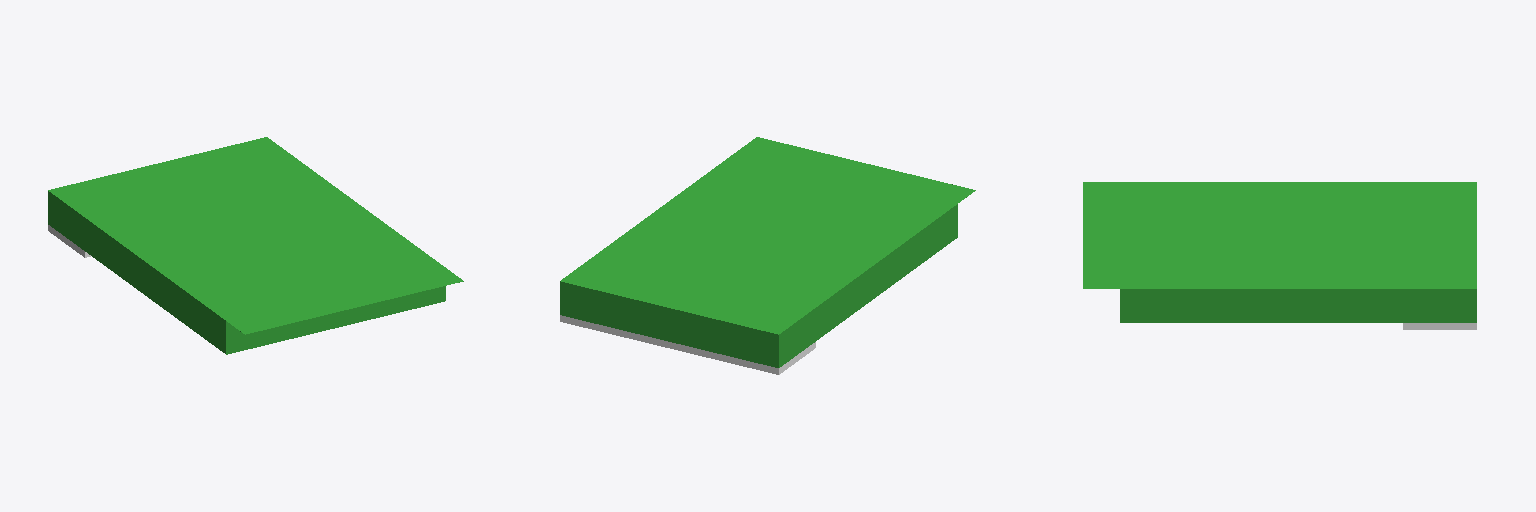
File: tinker.obj
3 renders of one model, left to right at view 1: azimuth 30°, elevation 25°; view 2: azimuth 150°, elevation 25°; view 3: azimuth 270°, elevation 25°, orthographic.
Visible parts, largest first — view 1: obj_0; view 2: obj_0; view 3: obj_0.
Part boxes in pixels (left/top/right/bottom): obj_0: left=48, top=137, right=463, bottom=354; obj_0: left=560, top=137, right=975, bottom=374; obj_0: left=1083, top=182, right=1476, bottom=329.
Size of the model in its own units: 34 by 5.99 by 53.